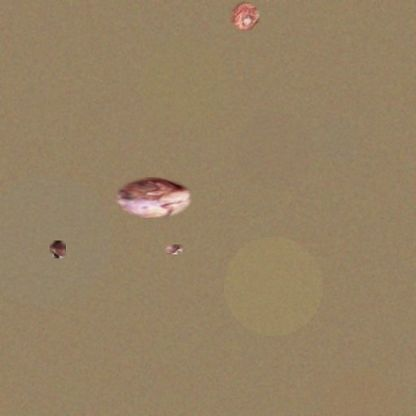rotten: (115, 177, 193, 218), (230, 2, 259, 31)
sprouted: (50, 240, 66, 258), (166, 245, 183, 254)
